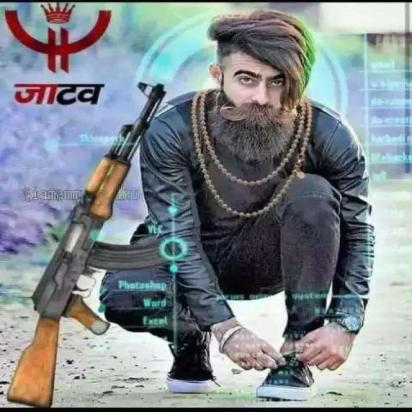Gun: (4, 79, 168, 408)
